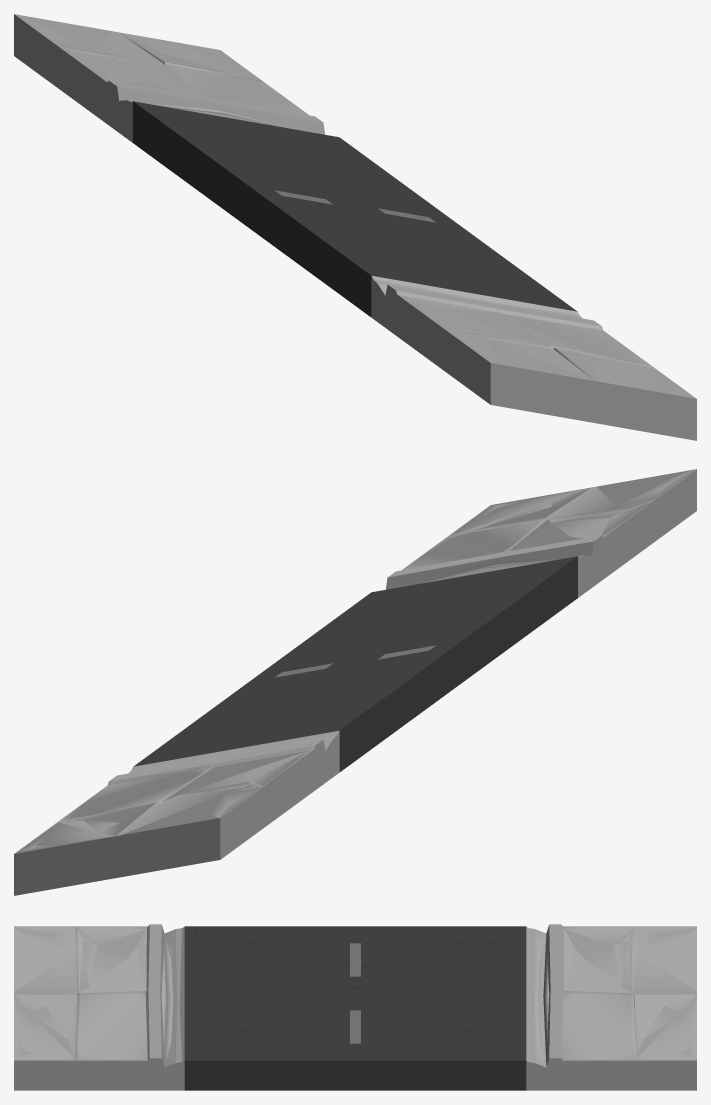
File: SM_Env_Road_BridgeRamp_02.glb
3 views of the same model, one above another, from view 1: azimuth 30°, elevation 25°; view 2: azimuth 150°, elevation 25°; view 3: azimuth 270°, elevation 25° (orthographic). The views are drawn at different scales.
Parts seen in each view (by area): view 1: SM_Env_Road_BridgeRamp_02; view 2: SM_Env_Road_BridgeRamp_02; view 3: SM_Env_Road_BridgeRamp_02.
Part boxes in pixels (x1,y1,x2,y2): SM_Env_Road_BridgeRamp_02: (14, 14, 696, 440); SM_Env_Road_BridgeRamp_02: (14, 469, 696, 895); SM_Env_Road_BridgeRamp_02: (14, 924, 696, 1090).
Bounding box in the file's own units: 5 × 3.04 × 20.
2 materials, 1 textured.
